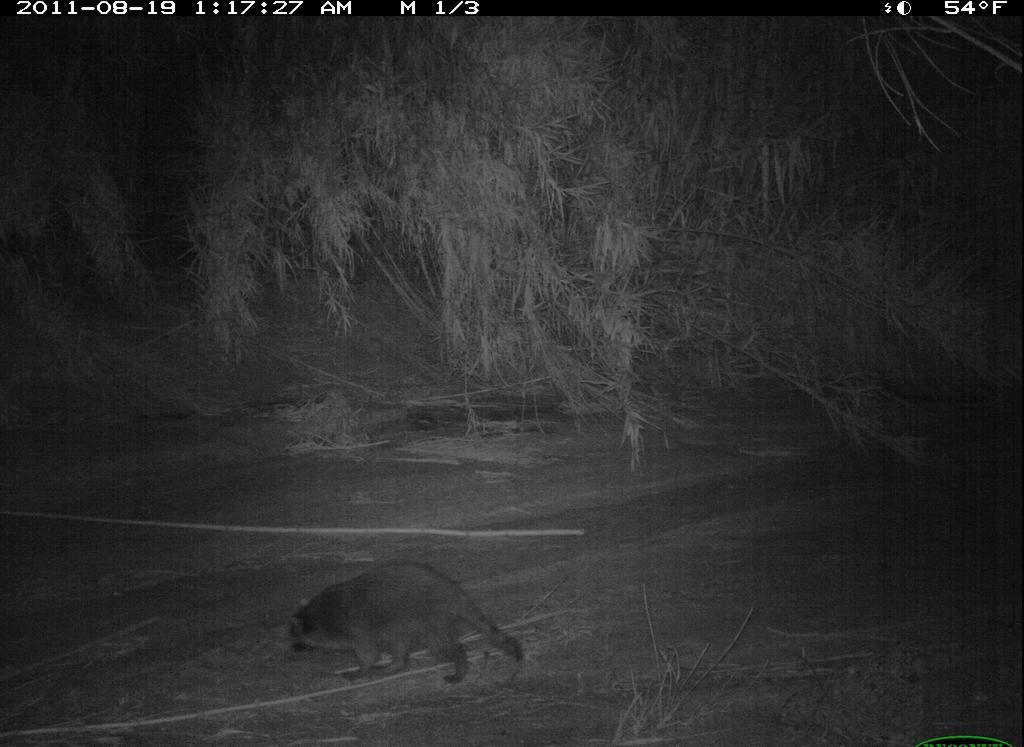raccoon: (278, 560, 534, 698)
